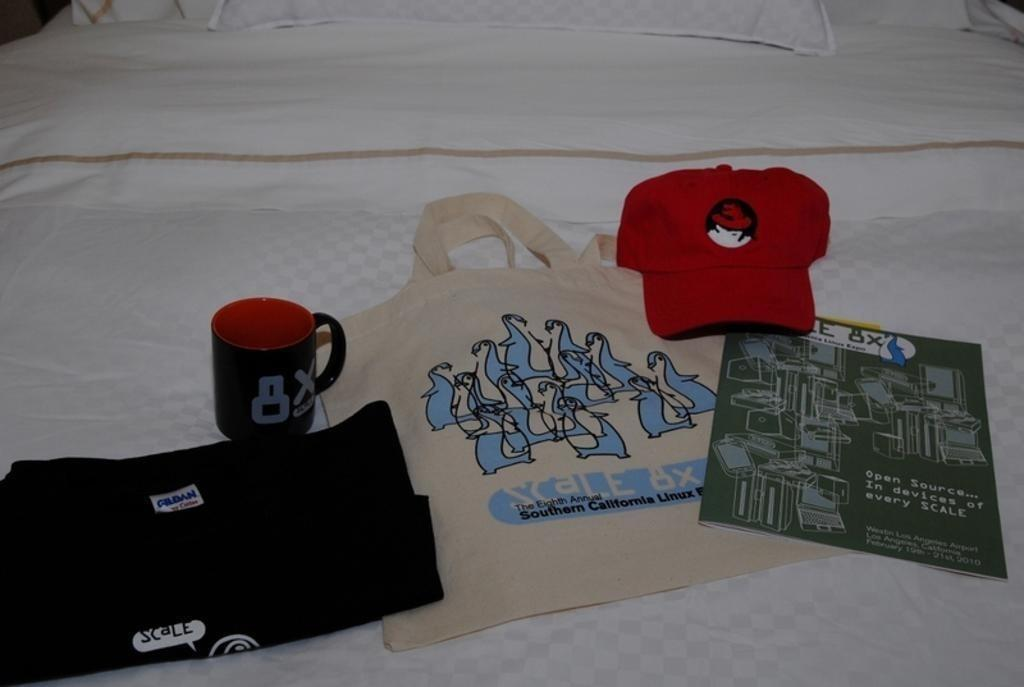cup-handle: (211, 294, 348, 445)
